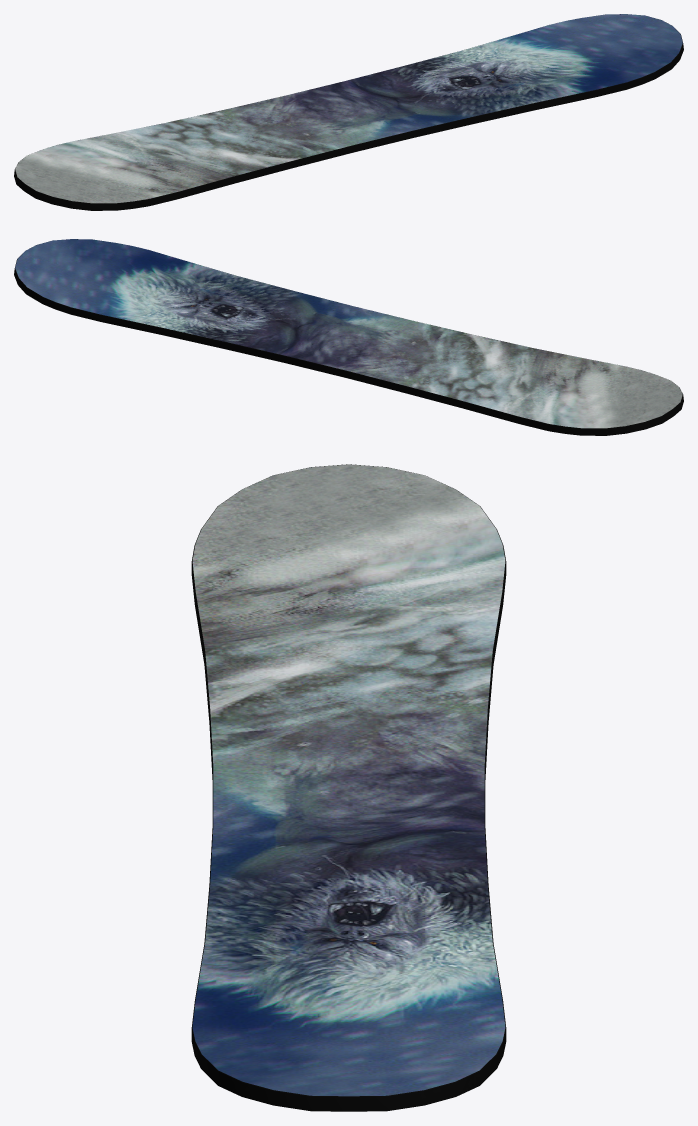
File: NoBoardBoard.fbx
3 renders of one model, top to bottom at view 1: azimuth 30°, elevation 25°; view 2: azimuth 150°, elevation 25°; view 3: azimuth 270°, elevation 25°, orthographic. The views are drawn at different scales.
Parts seen in each view (by area): view 1: YetiSnowboard1; view 2: YetiSnowboard1; view 3: YetiSnowboard1.
Part boxes in pixels (bbox=[...]): YetiSnowboard1: bbox=[14, 14, 683, 210]; YetiSnowboard1: bbox=[14, 239, 683, 435]; YetiSnowboard1: bbox=[191, 464, 506, 1111].
Bounding box in the file's own units: 1.63 × 0.0373 × 0.3417.
